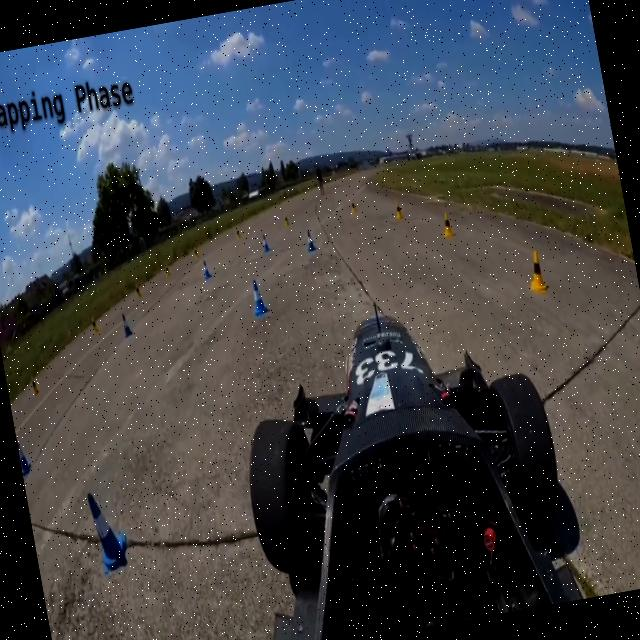blue_cone: (85, 488, 132, 574), (246, 276, 270, 318), (15, 429, 32, 478), (120, 312, 134, 339), (304, 229, 316, 252), (200, 258, 212, 280), (260, 232, 270, 252)
yellow_cone: (523, 247, 551, 296), (438, 209, 457, 239), (29, 373, 41, 398), (393, 200, 404, 220), (348, 198, 358, 216), (90, 316, 100, 334), (282, 213, 290, 228), (164, 262, 172, 276), (192, 246, 200, 260), (235, 227, 242, 242), (134, 284, 141, 298)
